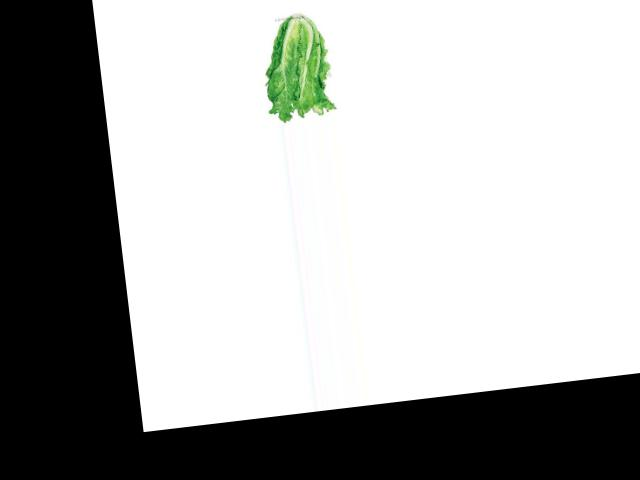lettuce: (257, 13, 339, 124)
